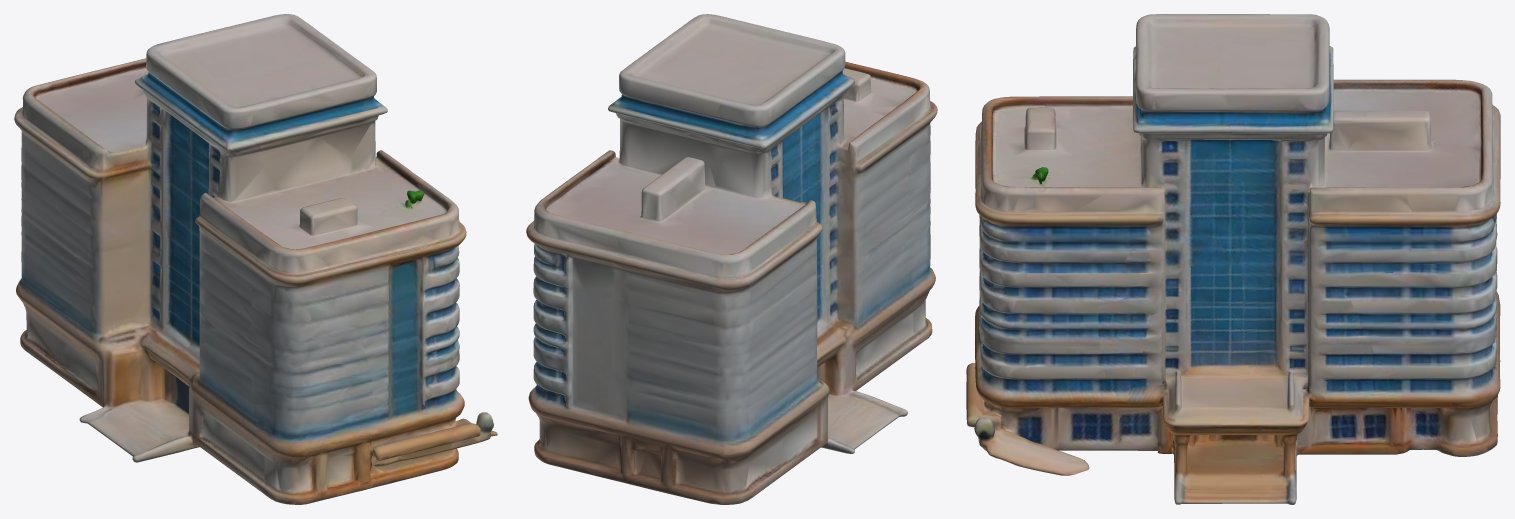
Rendered from hospital.glb.
3 renders of one model, left to right at view 1: azimuth 30°, elevation 25°; view 2: azimuth 150°, elevation 25°; view 3: azimuth 270°, elevation 25°, orthographic. The views are drawn at different scales.
Visible parts, largest first — view 1: tripo_node_22e10e96-5d27-4f7c-8c05-89b0af776bd0; view 2: tripo_node_22e10e96-5d27-4f7c-8c05-89b0af776bd0; view 3: tripo_node_22e10e96-5d27-4f7c-8c05-89b0af776bd0.
Part boxes in pixels (x1,y1,x2,y2): tripo_node_22e10e96-5d27-4f7c-8c05-89b0af776bd0: (14, 14, 497, 504); tripo_node_22e10e96-5d27-4f7c-8c05-89b0af776bd0: (526, 14, 937, 504); tripo_node_22e10e96-5d27-4f7c-8c05-89b0af776bd0: (966, 14, 1500, 504).
Bounding box in the file's own units: 0.6824 × 0.7025 × 0.923.
Materials: 1 (1 with a texture image).
